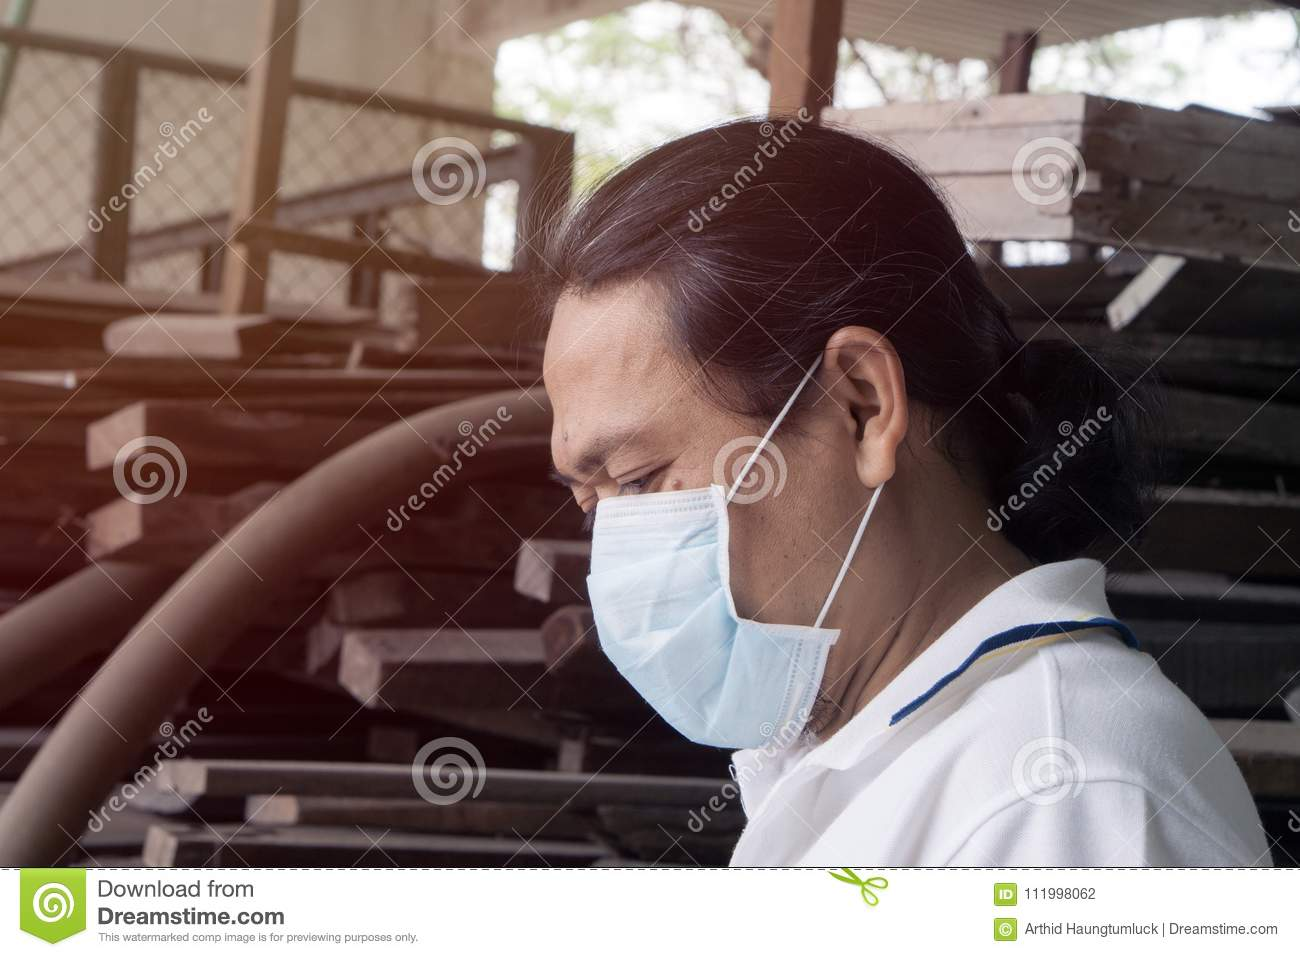mask: (586, 489, 837, 758)
